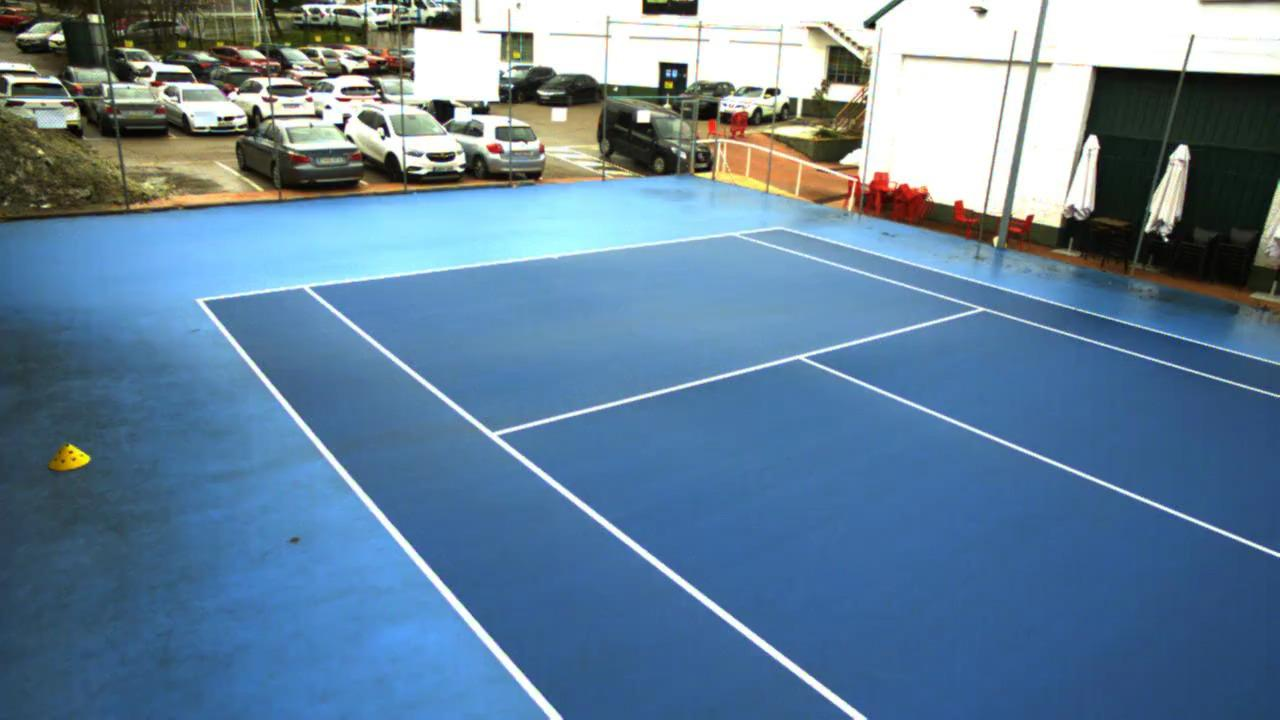cancha_tenis: (304, 233, 1280, 720)
point_f1: (295, 274, 320, 298)
point_f2: (723, 223, 753, 245)
point_fc1: (547, 251, 562, 264)
point_i1: (482, 422, 515, 450)
point_i2: (964, 300, 995, 318)
point_ic1: (788, 345, 822, 367)
